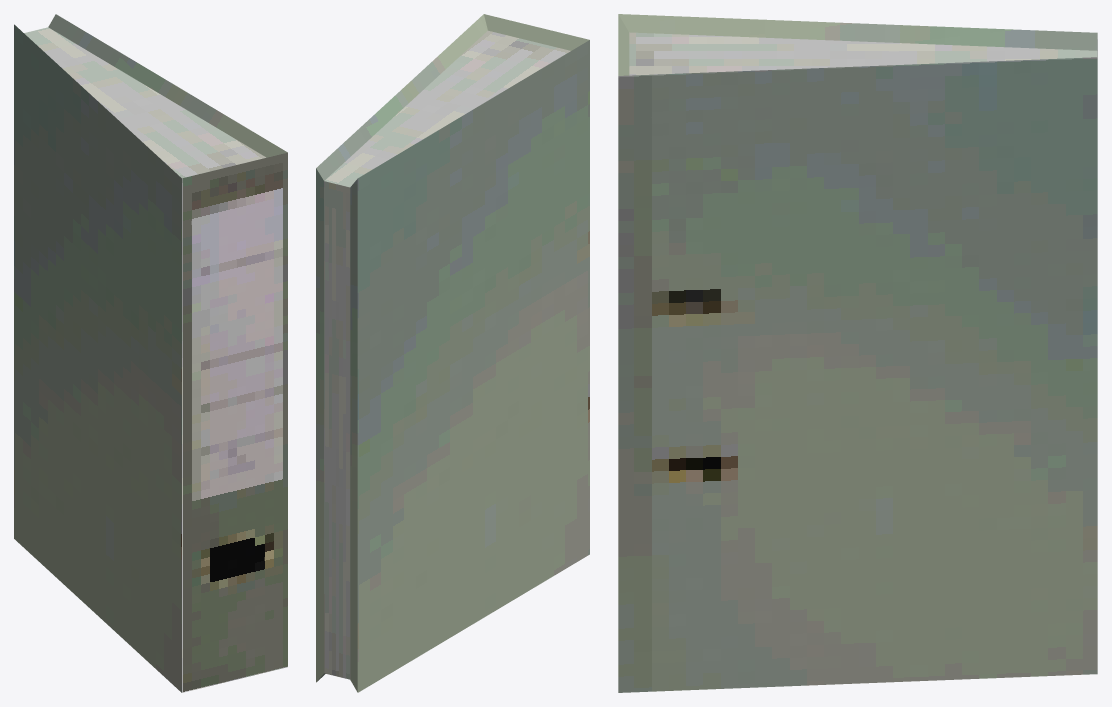
File: file_binder_alt5.glb
3 views of the same model, side by side, from view 1: azimuth 30°, elevation 25°; view 2: azimuth 150°, elevation 25°; view 3: azimuth 270°, elevation 25° (orthographic). The views are drawn at different scales.
Parts seen in each view (by area): view 1: file_binder_alt5; view 2: file_binder_alt5; view 3: file_binder_alt5.
Part boxes in pixels (x1,y1,x2,y2): file_binder_alt5: (14,14,287,692); file_binder_alt5: (316,14,589,692); file_binder_alt5: (618,14,1097,692).
Size of the model in its own units: 0.0911 by 0.4225 by 0.2975.
1 material, 1 textured.
